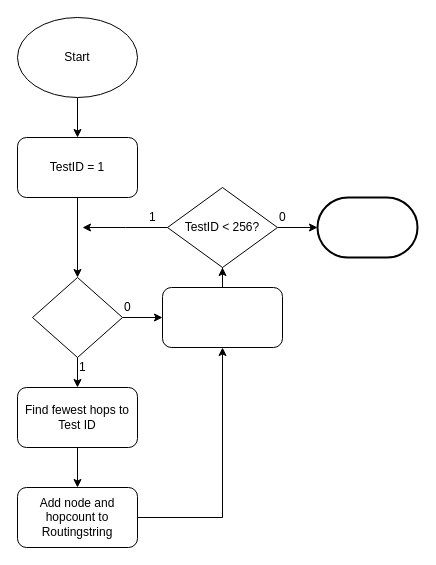
This 436x565 diagram has some shape labels left out. Here are the shapes that lost their labels. From the top down, the centre of each, then its label:
[367,227]: End
[77,317]: Is ID known?
[222,317]: TestID++
